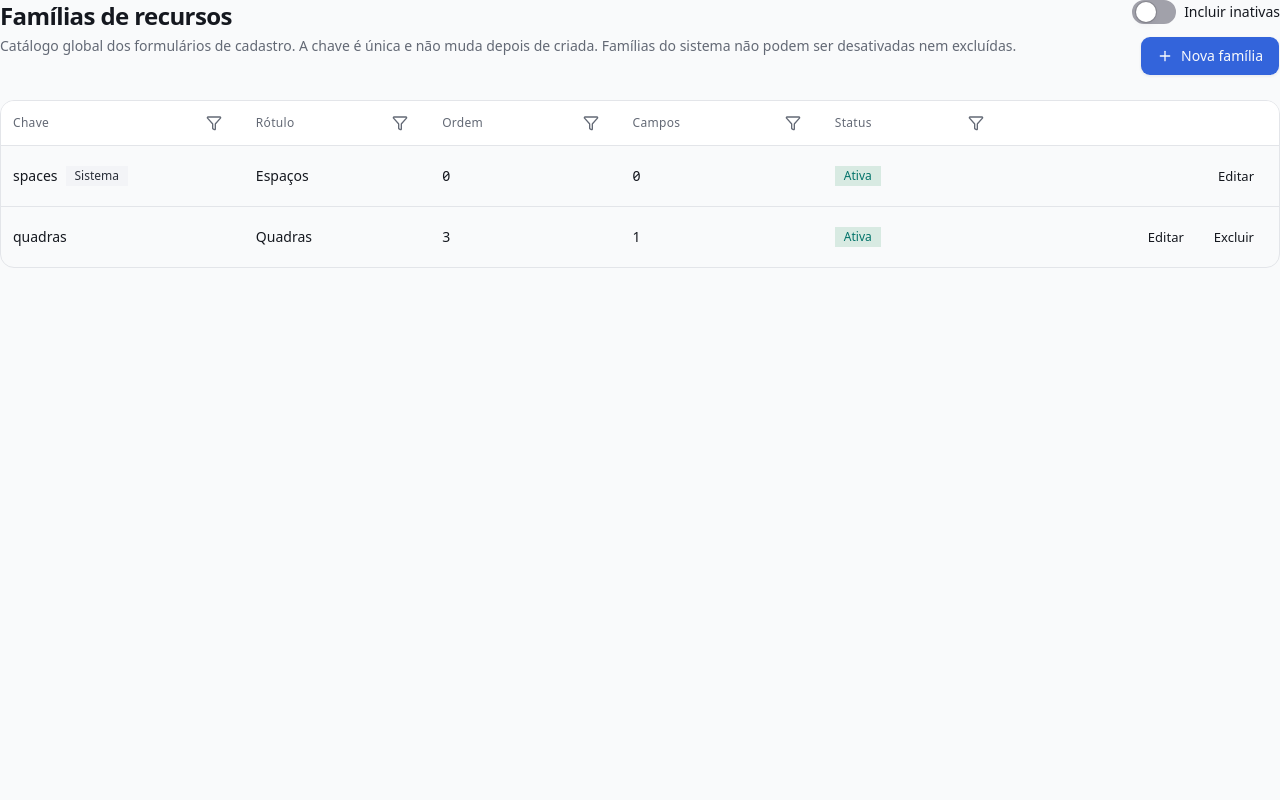
Test: AdminAssetFamiliesPage › keeps the delete dialog open when the family is in use
The width and height of the screenshot is (1280, 800).
Expected: the text "Quadras" is shown, [244,206,430,266]
Click the button "Excluir" at (1234, 236), box [1201,218,1267,254]
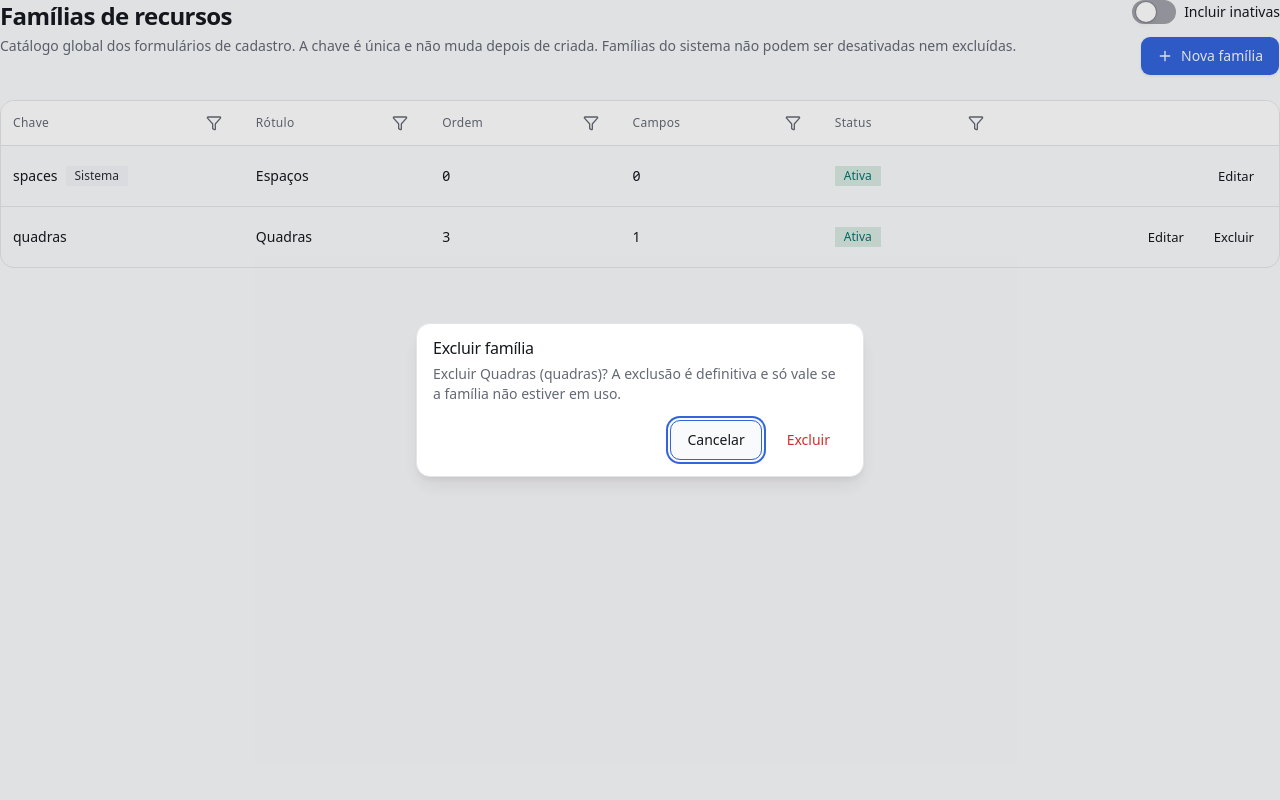
Click the button "Excluir" at (808, 440), box [770,420,847,460]
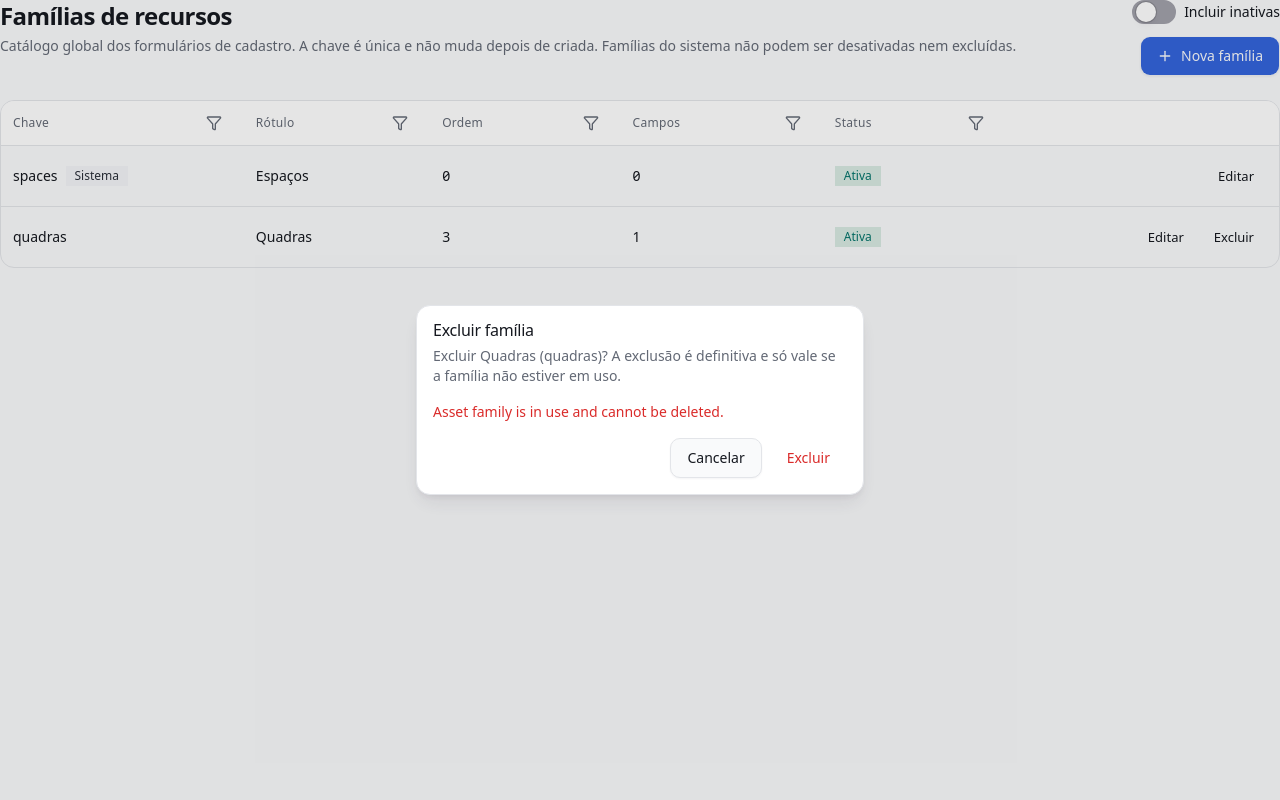
Expected: the dialog is shown, [416,305,864,495]
Expected: the text "Asset family is in use and cannot be deleted." is shown, [433,402,724,421]
